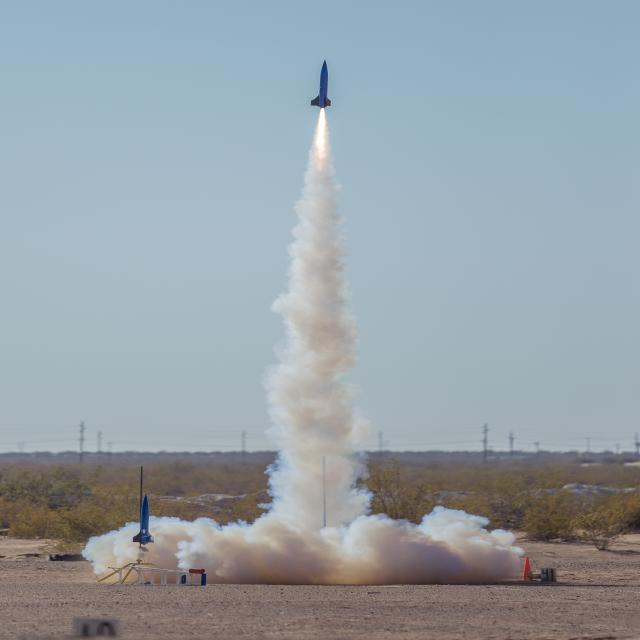Rocket: (132, 494, 156, 545), (311, 59, 331, 109)
